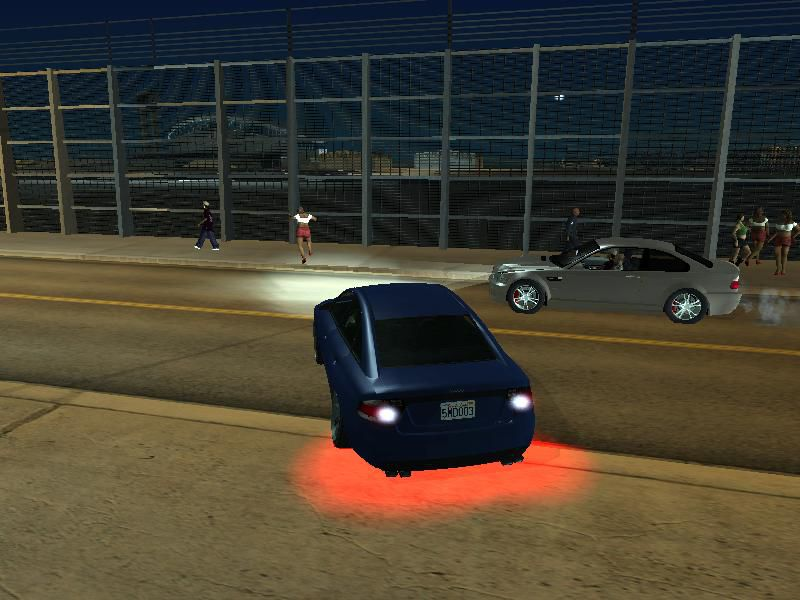car: (308, 287, 534, 482), (496, 240, 744, 330)
person: (771, 207, 798, 279), (194, 198, 225, 256), (291, 206, 319, 263), (748, 206, 769, 274), (729, 213, 751, 272), (560, 202, 584, 256)
